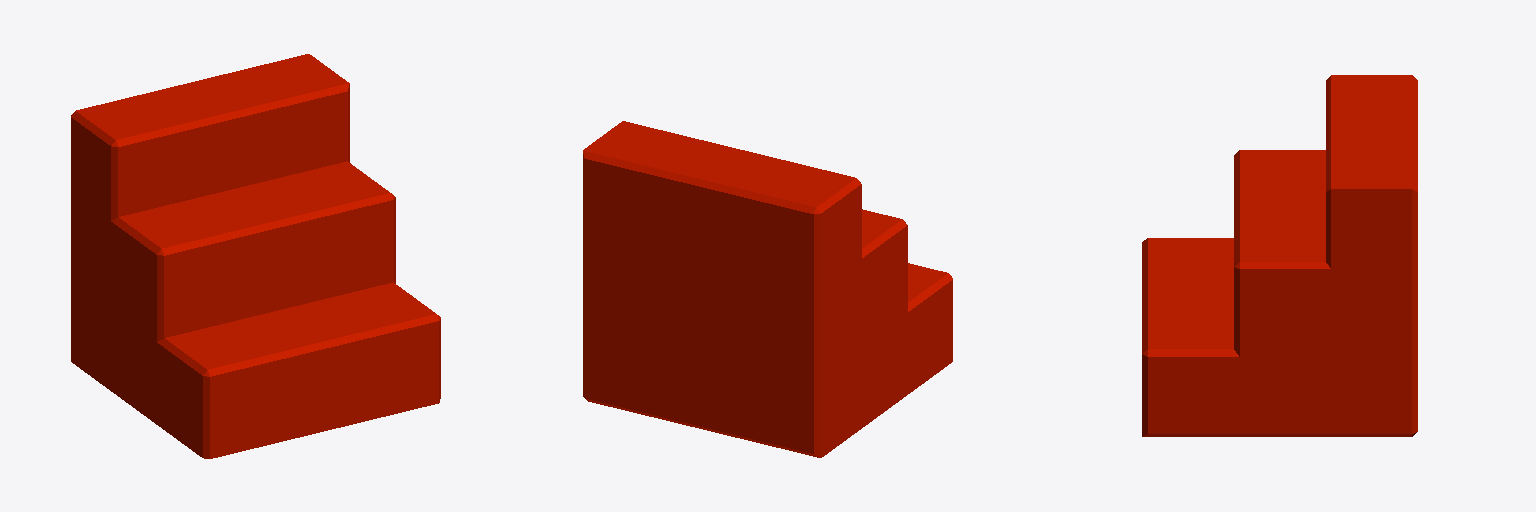
The model's file is Step01D.obj.
3 views of the same model, side by side, from view 1: azimuth 30°, elevation 25°; view 2: azimuth 150°, elevation 25°; view 3: azimuth 270°, elevation 25° (orthographic).
Parts seen in each view (by area): view 1: Steps01_Cube.031; view 2: Steps01_Cube.031; view 3: Steps01_Cube.031.
Boxes of the visible parts, box(x1,y1,x2,y2) form: Steps01_Cube.031: box(71, 54, 440, 458); Steps01_Cube.031: box(583, 121, 952, 457); Steps01_Cube.031: box(1142, 75, 1417, 436).
Size of the model in its own units: 2 by 2 by 2.